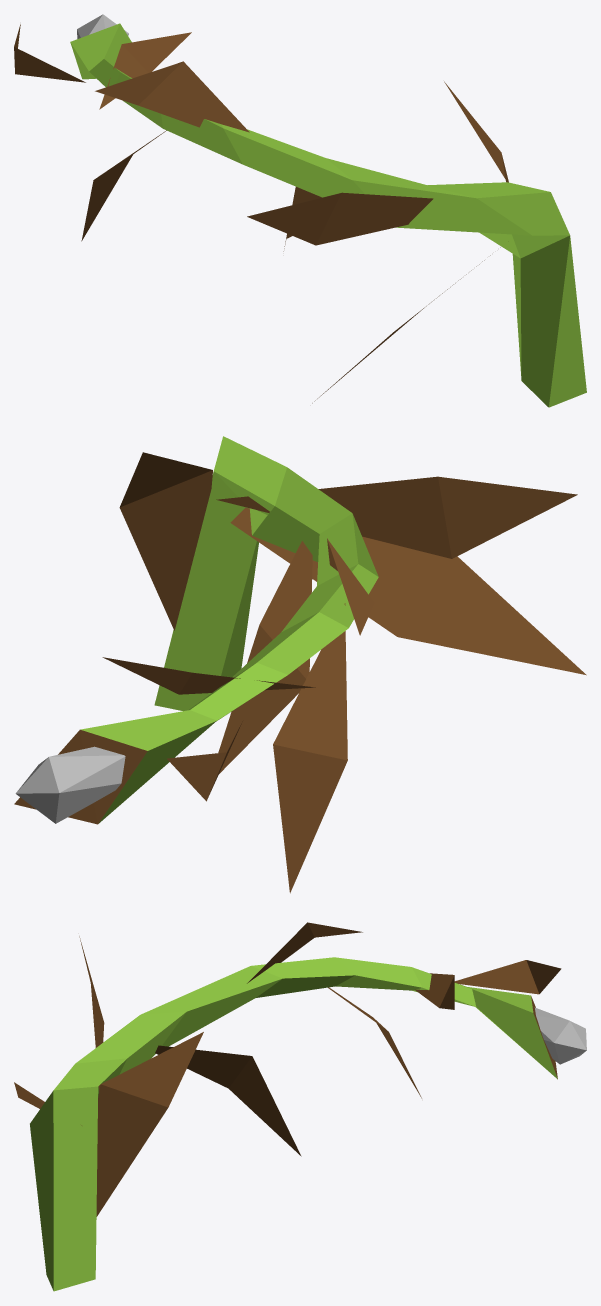
The model's file is Plantdood.fbx.
The picture shows the model from 3 angles, top to bottom: view 1: azimuth 30°, elevation 25°; view 2: azimuth 150°, elevation 25°; view 3: azimuth 270°, elevation 25°; orthographic projection. The views are drawn at different scales.
Visible parts, largest first — view 1: Plant4; view 2: Plant4; view 3: Plant4.
Boxes of the visible parts, x1,y1,x2,y2 form: Plant4: (14, 14, 586, 407); Plant4: (14, 436, 586, 893); Plant4: (14, 922, 586, 1291).
Size of the model in its own units: 0.9102 by 0.5299 by 0.4527.
